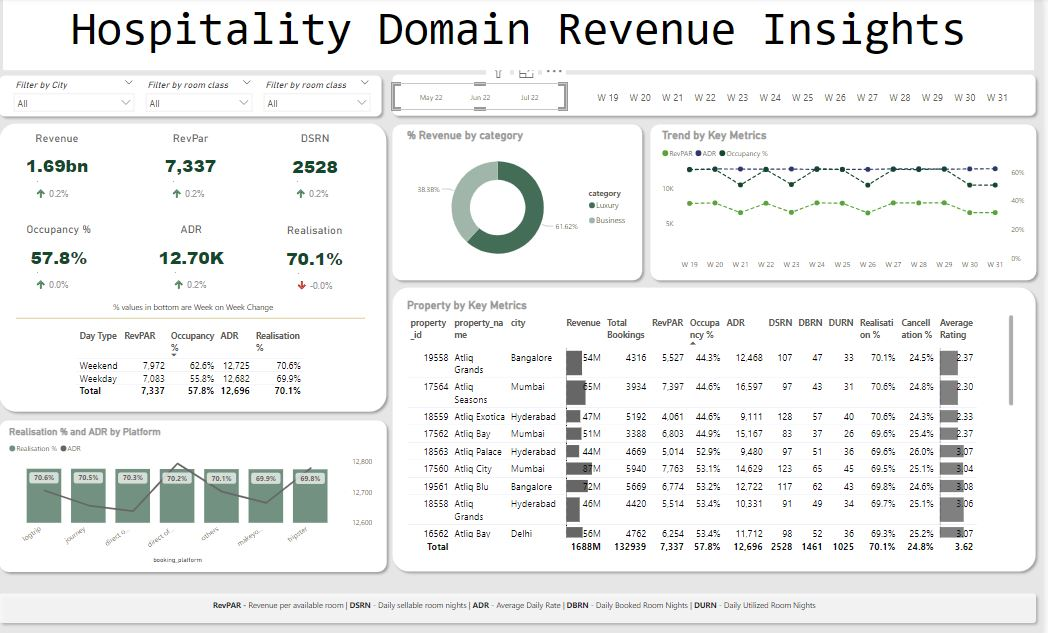

This screenshot's page, from the dashboard's own definition file:
{"tool":"powerbi","page":{"name":"Home","canvas":[1800,1100],"ordinal":2},"visuals":[{"type":"shape","box":[0.2,123.6,675.2,88.8],"z":0},{"type":"shape","box":[676,122.7,1124,89.3],"z":1000},{"type":"shape","box":[676,488,1124,506.7],"z":2000},{"type":"shape","box":[675.1,208.6,447.6,286.1],"z":3000},{"type":"shape","box":[1118.6,208.6,681.7,286.1],"z":4000},{"type":"shape","box":[0.2,207,683.4,513.9],"z":5000},{"type":"slicer","fields":{"Values":["dim_rooms.room_class"]},"box":[250.7,133.3,202.7,72],"z":6000},{"type":"slicer","fields":{"Values":["dim_hotels.city"]},"box":[24,134.7,226.7,76],"z":7000},{"type":"slicer","fields":{"Values":["dim_date.mmm yy"]},"box":[683.6,145.5,302.1,47.8],"z":8000},{"type":"card","title":"Revenue","fields":{"Values":["key_measures.Revenue"]},"box":[30.7,230.7,154.7,95.8],"z":8000,"group":"g2"},{"type":"card","title":"RevPar","fields":{"Values":["key_measures.Rev Par"]},"box":[257.9,230.7,160.2,95.8],"z":9000,"group":"g2"},{"type":"card","title":"Occupancy %","fields":{"Values":["key_measures.Occupancy %"]},"box":[14.7,386.3,192,96],"z":9000,"group":"g1"},{"type":"tableEx","title":"Property by Key Metrics","fields":{"Values":["dim_hotels.property_id","dim_hotels.property_name","dim_hotels.city","key_measures.Revenue","key_measures.Total Bookings","key_measures.Rev Par","key_measures.Occupancy %","key_measures.ADR","key_measures.DSRN","key_measures.DBRN","key_measures.DURN","key_measures.Realisation %"]},"box":[704,517.3,1053.3,445.3],"z":9000},{"type":"lineChart","title":"Trend by Key Metrics","fields":{"Category":["dim_date.mmm yy.Variation.Date Hierarchy.Month","dim_date.week no"],"Y2":["key_measures.Occupancy %"],"Y":["key_measures.Rev Par","key_measures.ADR"]},"box":[1142.7,225.3,633.3,252],"z":10000},{"type":"card","title":"DSRN","fields":{"Values":["key_measures.DSRN"]},"box":[456.5,231.1,189.3,96],"z":11000,"group":"g2"},{"type":"tableEx","fields":{"Values":["dim_date.day type","key_measures.Rev Par","key_measures.Occupancy %","key_measures.ADR","key_measures.Realisation %"]},"box":[135.1,564.9,437.2,129.8],"z":11000},{"type":"card","title":"ADR","fields":{"Values":["key_measures.ADR"]},"box":[241.4,385.9,193.3,96],"z":12000,"group":"g1"},{"type":"shape","box":[0,716,684,278.7],"z":12000},{"type":"card","title":"Realisation","fields":{"Values":["key_measures.Realisation %"]},"box":[452.5,386.8,194.7,96],"z":13000,"group":"g1"},{"type":"lineStackedColumnComboChart","title":"Realisation % and ADR by Platform","fields":{"Category":["fact_bookings.booking_platform"],"Y":["key_measures.Realisation %"],"Y2":["key_measures.ADR"]},"box":[21.3,736,634.7,241.3],"z":13000},{"type":"slicer","fields":{"Values":["dim_date.week no"]},"box":[1002.7,145.3,773.3,48],"z":14000},{"type":"shape","box":[0,1013.3,1800,69.3],"z":15000},{"type":"group","id":"g1","title":"Group 1","box":[14.7,385.9,632.4,96.9],"z":16000},{"type":"slicer","fields":{"Values":["dim_rooms.room_class"]},"box":[453.3,134.7,202.7,72],"z":19000},{"type":"group","id":"g2","title":"Group 2","box":[30.7,230.7,615.1,96.4],"z":20000},{"type":"tableEx","fields":{"Values":["key_measures.Revpar WoW change %"]},"box":[296,297.3,92,58.7],"z":21000},{"type":"textbox","box":[345,1029.6,1093.6,39],"z":22000},{"type":"shape","box":[38.7,542.7,600,14.7],"z":23000},{"type":"tableEx","fields":{"Values":["key_measures.Revpar WoW change %"]},"box":[61.3,297.3,92,58.7],"z":24000},{"type":"tableEx","fields":{"Values":["key_measures.Revpar WoW change %"]},"box":[509.3,297.3,92,58.7],"z":25000},{"type":"donutChart","title":"% Revenue by category","fields":{"Category":["dim_hotels.category"],"Y":["key_measures.Revenue"]},"box":[704,225.3,396,248],"z":26000},{"type":"group","id":"g3","title":"Group 3","box":[61.3,454.3,540,60],"z":27000},{"type":"tableEx","fields":{"Values":["key_measures.Occupancy WoW change %"]},"box":[61.3,454.3,92,58.7],"z":27000,"group":"g3"},{"type":"tableEx","fields":{"Values":["key_measures.ADR WoW change %"]},"box":[298.6,454.3,92,58.7],"z":28000,"group":"g3"},{"type":"textbox","box":[200,517.3,308,33.3],"z":28000},{"type":"textbox","box":[15.5,0,1772,123.8],"z":28001},{"type":"tableEx","fields":{"Values":["key_measures.Realisation WoW change %"]},"box":[509.3,455.6,92,58.7],"z":29000,"group":"g3"}]}

Visuals, with their boxes in screenshot pixels (x1, y1, x2, y2), scaled from the page's 1800x1100 canvas onto the 1048x633 screenshot:
shape: (0, 71, 393, 122)
shape: (394, 71, 1047, 122)
shape: (394, 281, 1047, 572)
shape: (393, 120, 654, 285)
shape: (651, 120, 1047, 285)
shape: (0, 119, 398, 415)
slicer - dim_rooms.room_class: (146, 77, 264, 118)
slicer - dim_hotels.city: (14, 78, 146, 121)
slicer - dim_date.mmm yy: (398, 84, 574, 111)
"Revenue" card: (18, 133, 108, 188)
"RevPar" card: (150, 133, 243, 188)
"Occupancy %" card: (9, 222, 120, 278)
"Property by Key Metrics" tableEx: (410, 298, 1023, 554)
"Trend by Key Metrics" lineChart: (665, 130, 1034, 275)
"DSRN" card: (266, 133, 376, 188)
tableEx - dim_date.day type x key_measures.Rev Par: (79, 325, 333, 400)
"ADR" card: (141, 222, 253, 277)
shape: (0, 412, 398, 572)
"Realisation" card: (263, 223, 377, 278)
"Realisation % and ADR by Platform" lineStackedColumnComboChart: (12, 424, 382, 562)
slicer - dim_date.week no: (584, 84, 1034, 111)
shape: (0, 583, 1047, 623)
"Group 1" group: (9, 222, 377, 278)
slicer - dim_rooms.room_class: (264, 78, 382, 119)
"Group 2" group: (18, 133, 376, 188)
tableEx - key_measures.Revpar WoW change %: (172, 171, 226, 205)
textbox: (201, 592, 838, 615)
shape: (23, 312, 372, 321)
tableEx - key_measures.Revpar WoW change %: (36, 171, 89, 205)
tableEx - key_measures.Revpar WoW change %: (297, 171, 350, 205)
"% Revenue by category" donutChart: (410, 130, 640, 272)
"Group 3" group: (36, 261, 350, 296)
tableEx - key_measures.Occupancy WoW change %: (36, 261, 89, 295)
tableEx - key_measures.ADR WoW change %: (174, 261, 227, 295)
textbox: (116, 298, 296, 317)
textbox: (9, 0, 1041, 71)
tableEx - key_measures.Realisation WoW change %: (297, 262, 350, 296)
